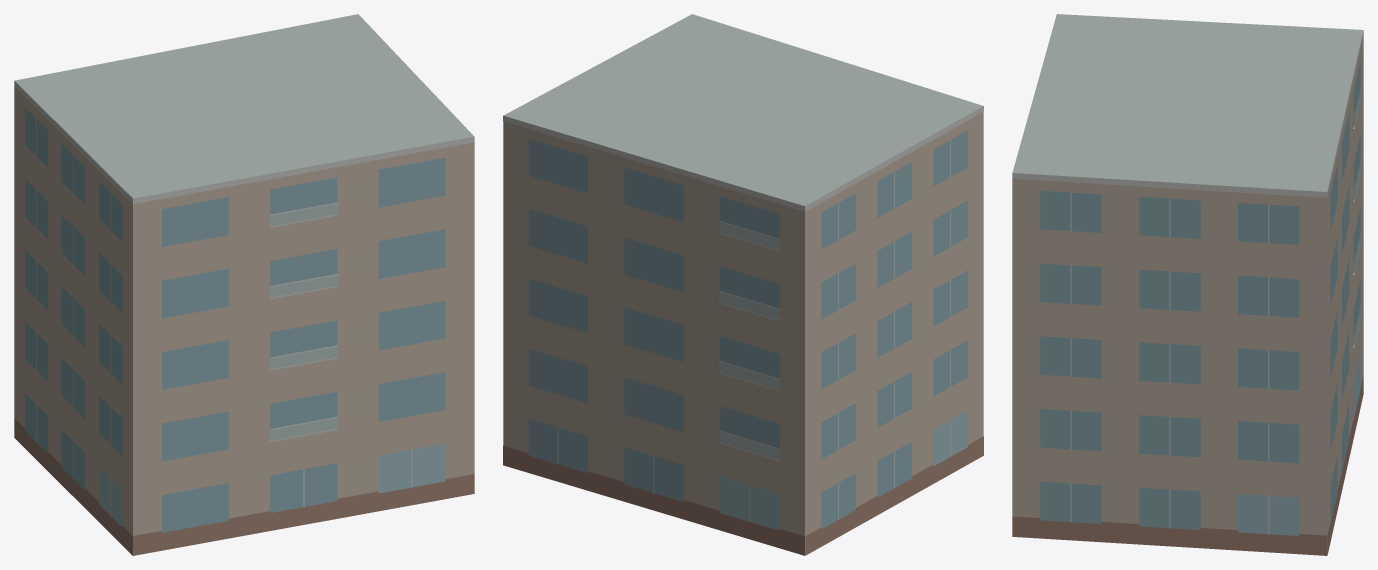
Rendered from survey-upis-32616687.glb.
3 renders of one model, left to right at view 1: azimuth 30°, elevation 25°; view 2: azimuth 150°, elevation 25°; view 3: azimuth 270°, elevation 25°, orthographic. The views are drawn at different scales.
Visible parts, largest first — view 1: survey-upis-32616687.tmp; view 2: survey-upis-32616687.tmp; view 3: survey-upis-32616687.tmp.
Part boxes in pixels (box(x1,y1,x2,y2)): survey-upis-32616687.tmp: box(14, 14, 474, 555); survey-upis-32616687.tmp: box(503, 14, 983, 555); survey-upis-32616687.tmp: box(1012, 14, 1363, 555).
Size of the model in its own units: 16.01 by 15.25 by 13.35.
